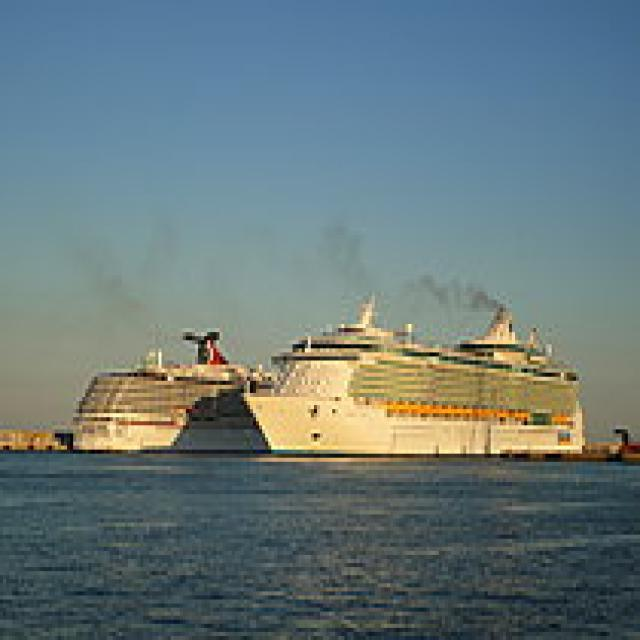Ship: (230, 284, 596, 467)
